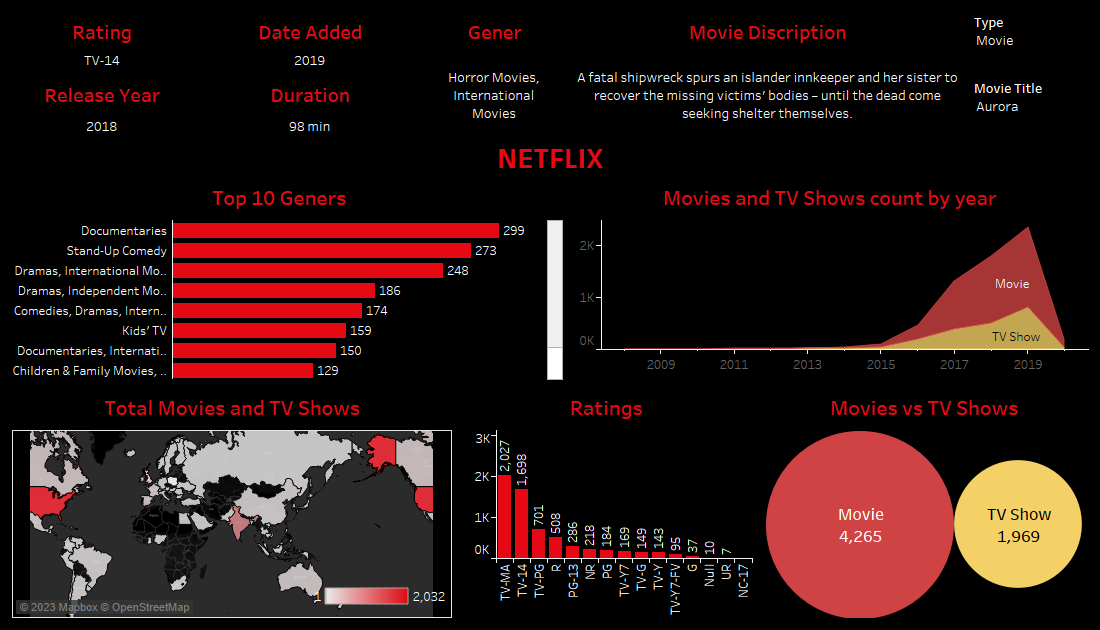

What the dashboard file says about the page in this screenshot:
{"tool":"tableau","page":{"name":"Netflix_movie_TV-shows_data","canvas":[1100,630],"ordinal":0},"visuals":[{"type":"worksheet","title":"Rating","mark":"Automatic","box":[8,8,188,63]},{"type":"worksheet","title":"Date Added","mark":"Automatic","box":[196,8,228,63]},{"type":"worksheet","title":"Gener","mark":"Automatic","box":[424,8,141,133]},{"type":"worksheet","title":"Movie Discription","mark":"Automatic","box":[565,8,405,133]},{"type":"filter","title":"Rating","param":"[federated.1s7fp9b175aozb14sbehy0e75icr].[none:type:nk]","box":[970,8,122,66.5]},{"type":"worksheet","title":"Release Year","mark":"Automatic","box":[8,71,188,70]},{"type":"worksheet","title":"Duration","mark":"Automatic","box":[196,71,228,70]},{"type":"filter","title":"Rating","param":"[federated.1s7fp9b175aozb14sbehy0e75icr].[none:title:nk]","box":[970,74.5,122,66.5]},{"type":"text","box":[8,141,1084,32]},{"type":"worksheet","title":"Top 10 Geners","mark":"Automatic","rows":["listed_in"],"cols":["show_id"],"box":[8,173,559,210]},{"type":"worksheet","title":"Movies and TV shows by Year","mark":"Area","rows":["show_id"],"cols":["date_added"],"box":[567,173,525,210]},{"type":"worksheet","title":"Total Movies and TV Shows","mark":"Multipolygon","box":[8,383,448,239]},{"type":"worksheet","title":"Ratings","mark":"Automatic","rows":["show_id"],"cols":["rating"],"box":[456,383,300,239]},{"type":"worksheet","title":"Movies vs TV Shows","mark":"Circle","box":[756,383,336,239]}]}

Visuals, with their boxes in screenshot pixels (x1, y1, x2, y2), scaled from the page's 1100x630 canvas onto the 1100x630 screenshot:
"Rating" worksheet: (x1=8, y1=8, x2=196, y2=71)
"Date Added" worksheet: (x1=196, y1=8, x2=424, y2=71)
"Gener" worksheet: (x1=424, y1=8, x2=565, y2=141)
"Movie Discription" worksheet: (x1=565, y1=8, x2=970, y2=141)
"Rating" filter: (x1=970, y1=8, x2=1092, y2=74)
"Release Year" worksheet: (x1=8, y1=71, x2=196, y2=141)
"Duration" worksheet: (x1=196, y1=71, x2=424, y2=141)
"Rating" filter: (x1=970, y1=74, x2=1092, y2=141)
text: (x1=8, y1=141, x2=1092, y2=173)
"Top 10 Geners" worksheet: (x1=8, y1=173, x2=567, y2=383)
"Movies and TV shows by Year" worksheet (Area marks): (x1=567, y1=173, x2=1092, y2=383)
"Total Movies and TV Shows" worksheet (Multipolygon marks): (x1=8, y1=383, x2=456, y2=622)
"Ratings" worksheet: (x1=456, y1=383, x2=756, y2=622)
"Movies vs TV Shows" worksheet (Circle marks): (x1=756, y1=383, x2=1092, y2=622)
